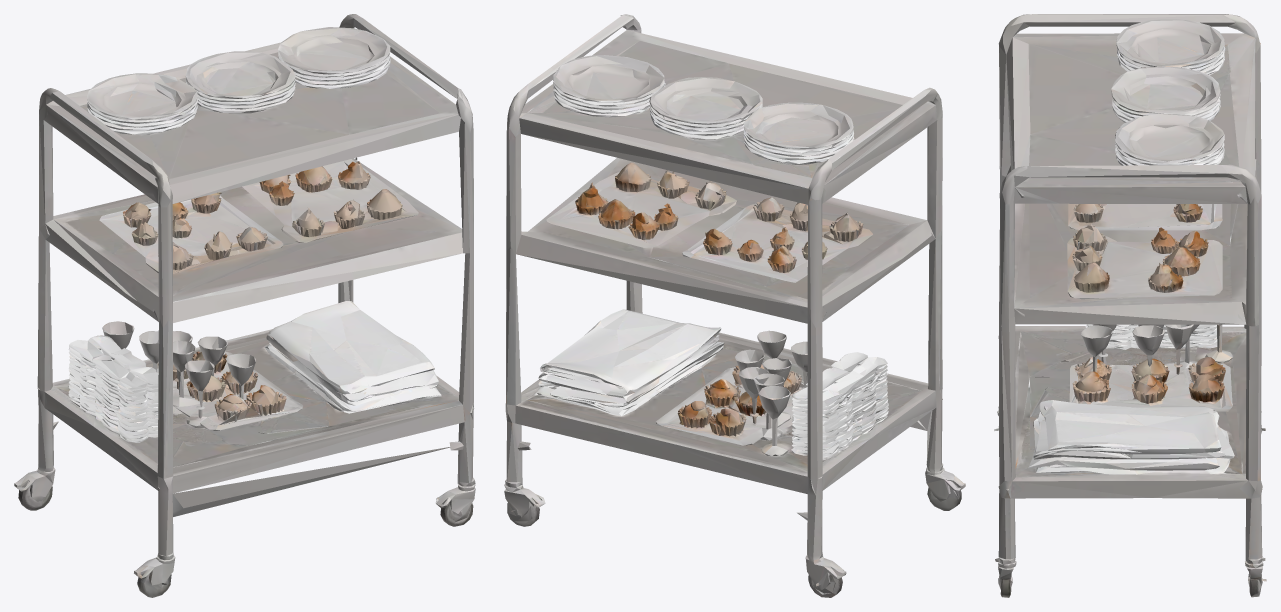
File: srvCart.glb
The picture shows the model from 3 angles, left to right: view 1: azimuth 30°, elevation 25°; view 2: azimuth 150°, elevation 25°; view 3: azimuth 270°, elevation 25°; orthographic projection. The views are drawn at different scales.
Size of the model in its own units: 1.58 by 1.9 by 1.08.
Materials: 1 (1 with a texture image).
